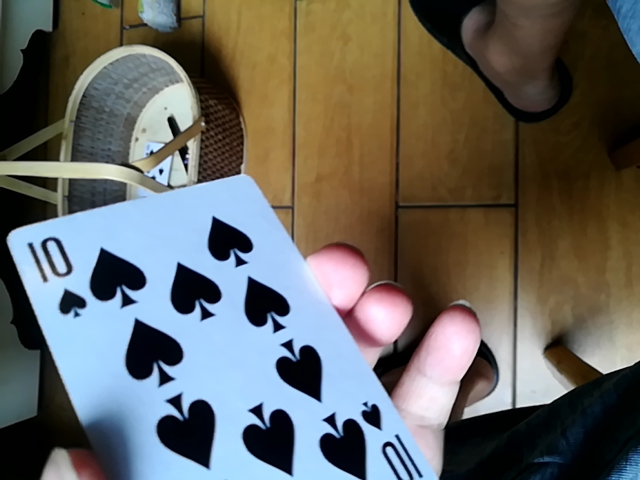ht 10: (9, 169, 471, 478)
